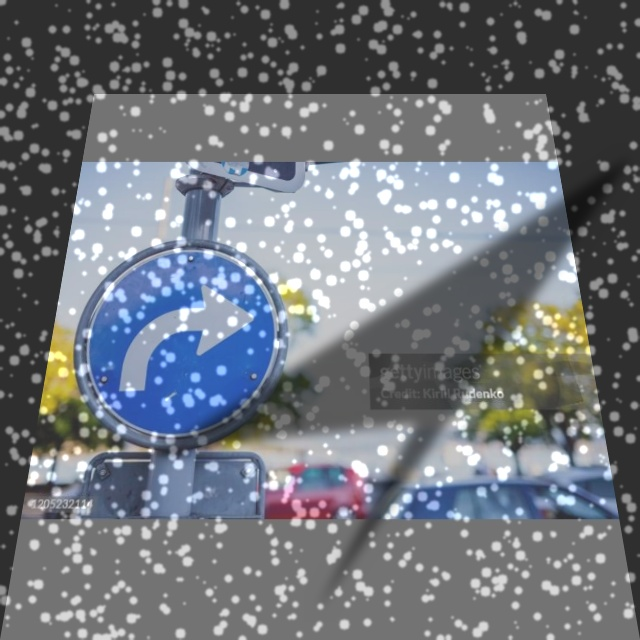Compulsory_Turn_Right_Ahead: (67, 242, 283, 443)
